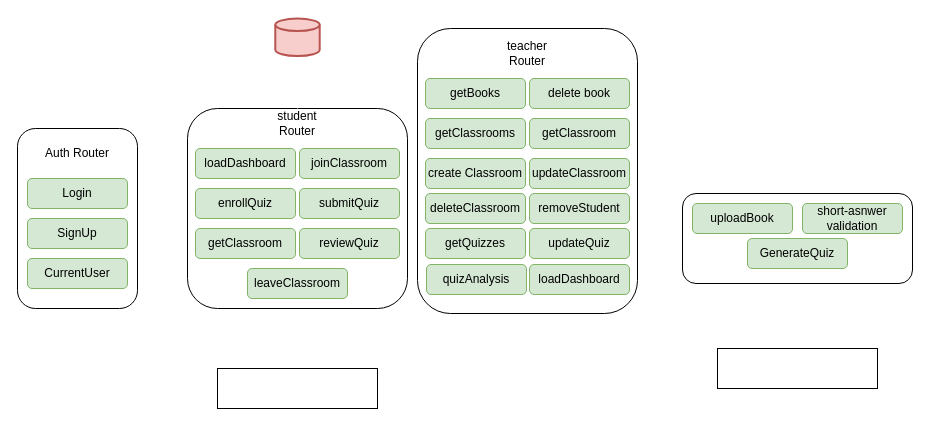
Image size: 930x426. Some labels were removed from this diagram. Each missing label, with the centre of its shape:
FastAPI: [797,368]
NodeJs: [297,388]
PostgreSQL: [297,37]
